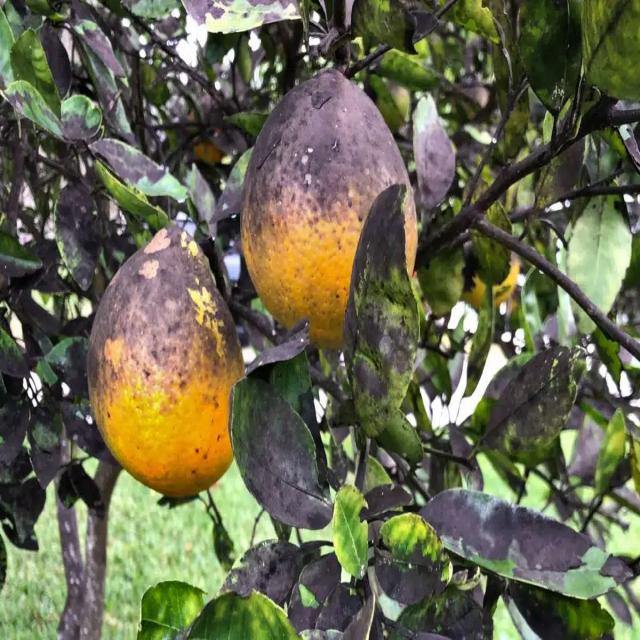Sooty Mold: (239, 66, 418, 353), (86, 224, 245, 499), (639, 6, 640, 9)
